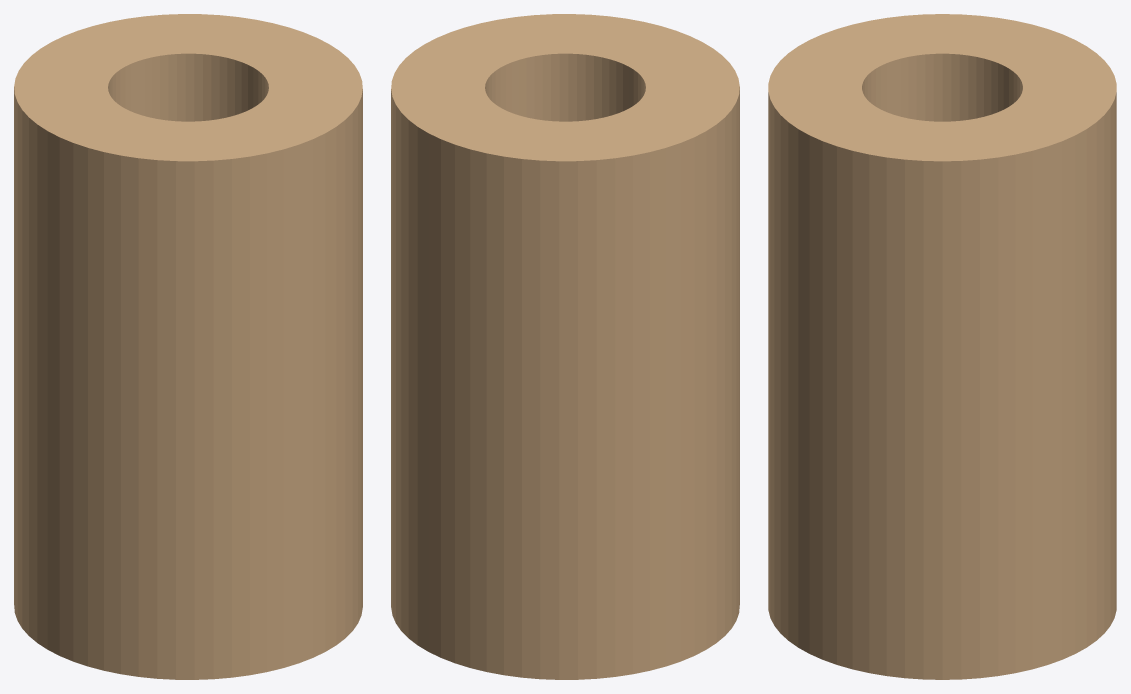
File: starter-solenoid-coil-envelope.glb
3 renders of one model, left to right at view 1: azimuth 30°, elevation 25°; view 2: azimuth 150°, elevation 25°; view 3: azimuth 270°, elevation 25°, orthographic.
Parts seen in each view (by area): view 1: world; view 2: world; view 3: world.
Part boxes in pixels (bbox=[...]): world: bbox=[14, 14, 362, 679]; world: bbox=[391, 14, 739, 679]; world: bbox=[768, 14, 1116, 679].
Size of the model in its own units: 0.039 by 0.064 by 0.0389.
